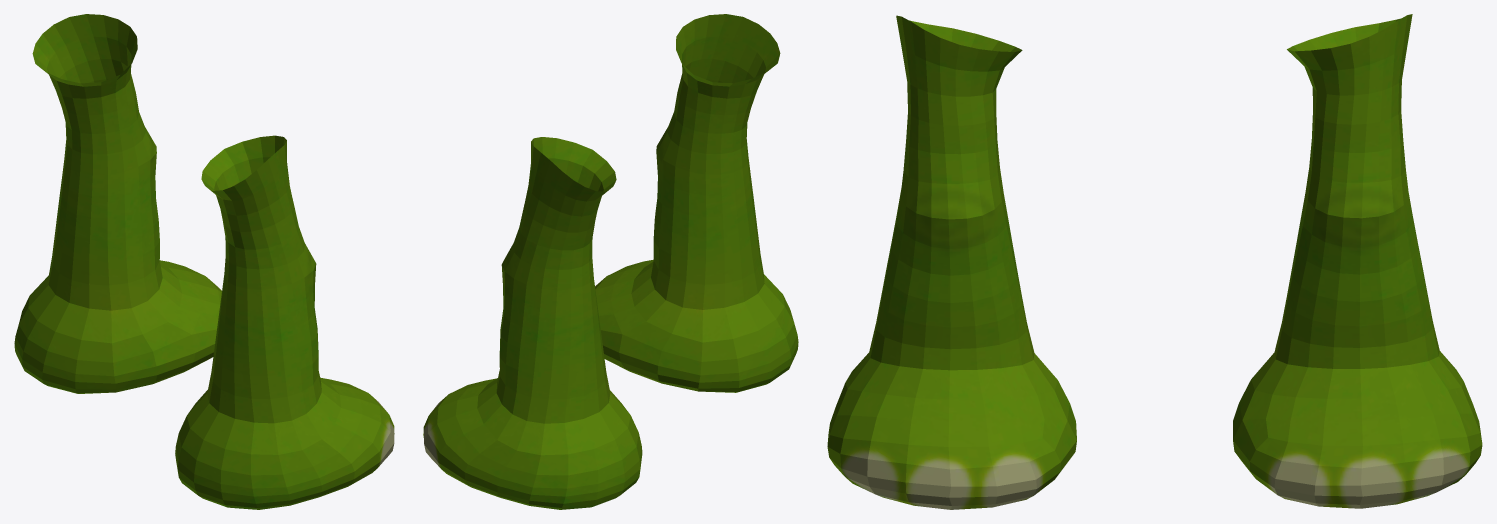
Rendered from PiesD.obj.
3 views of the same model, side by side, from view 1: azimuth 30°, elevation 25°; view 2: azimuth 150°, elevation 25°; view 3: azimuth 270°, elevation 25° (orthographic). The views are drawn at different scales.
Visible parts, largest first — view 1: polySurface2; view 2: polySurface2; view 3: polySurface2.
Boxes of the visible parts, <box> form: polySurface2: <box>14,14,394,509</box>; polySurface2: <box>423,14,798,509</box>; polySurface2: <box>827,14,1482,509</box>.
Bounding box in the file's own units: 0.6123 × 0.9992 × 1.36.
Materials: 1 (1 with a texture image).
